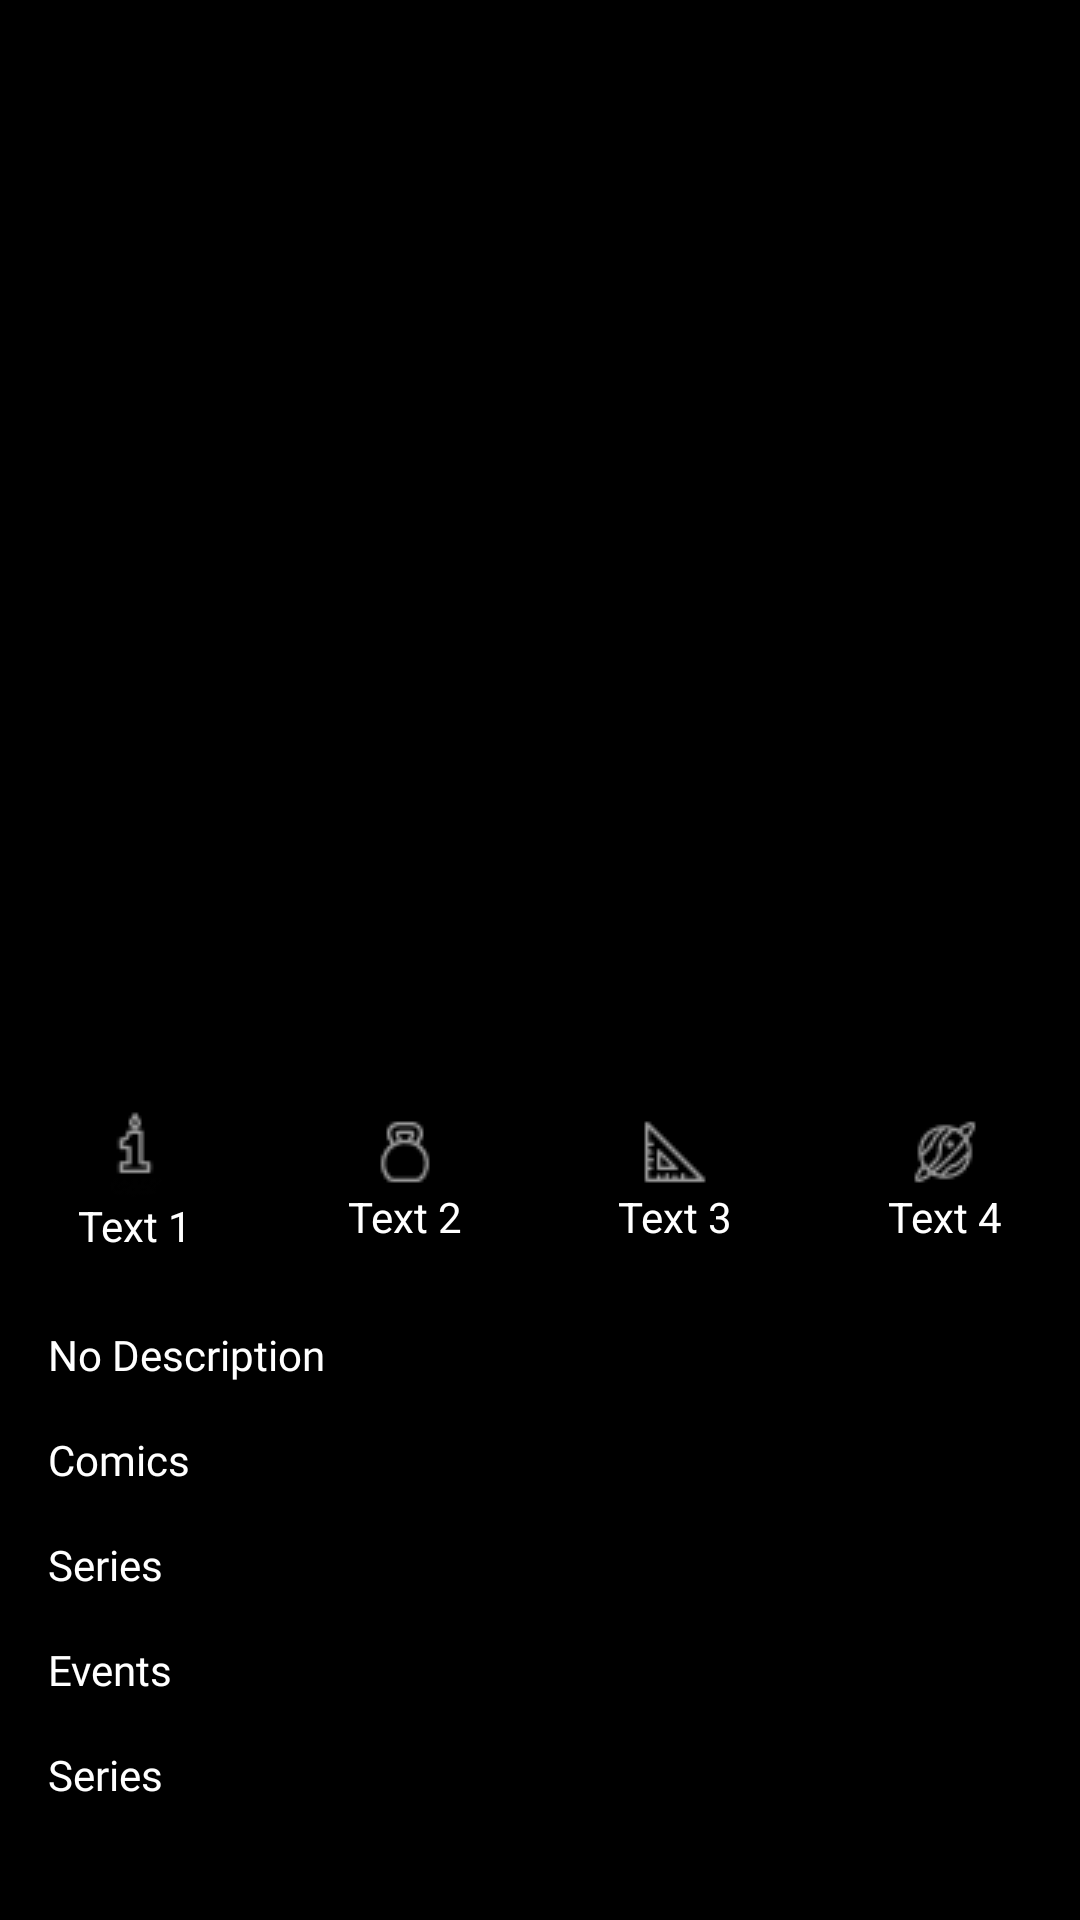

Icon click points for this 1080×1920 phone screenshot, format [x,y]:
age: [135,1143]
height: [675,1152]
universe: [945,1152]
weight: [405,1152]
